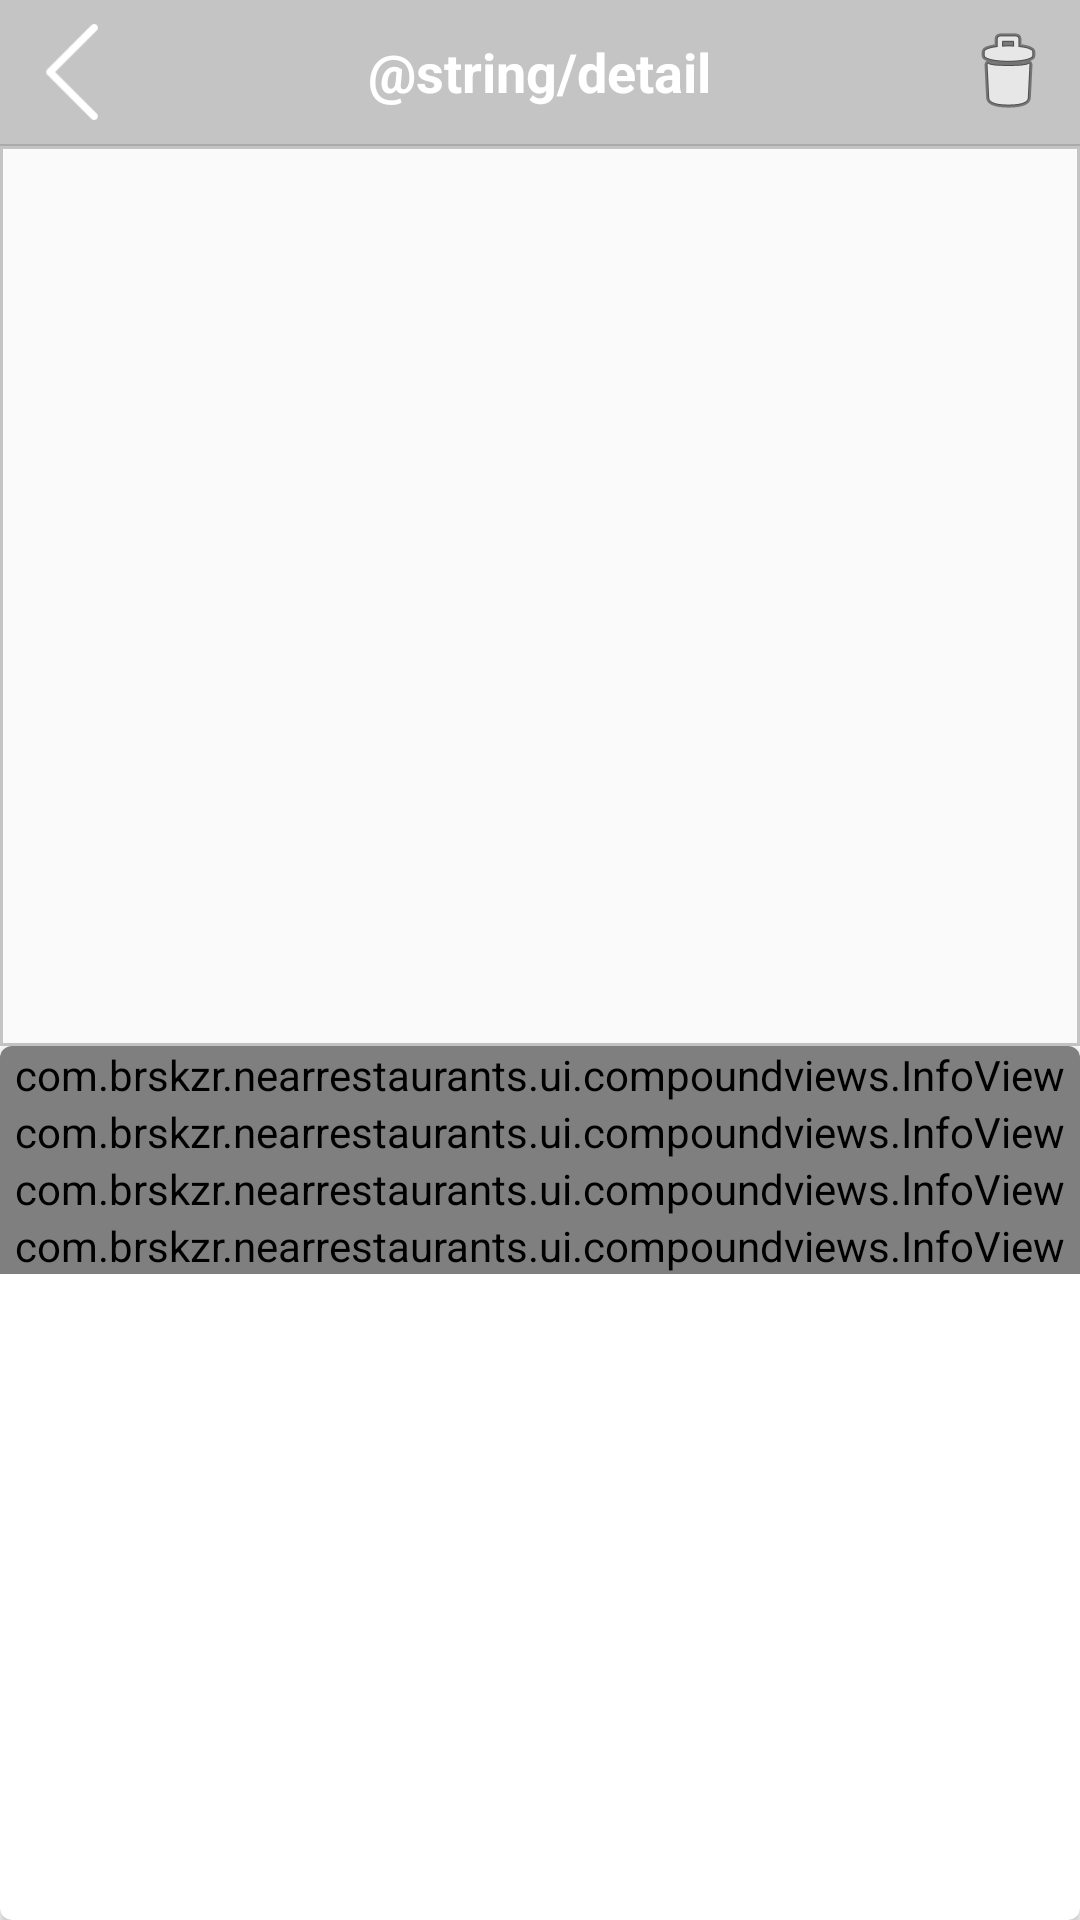

Point at icon controls on the screen. Image size 1080w x 1920h, points as [x,y].
delete: [1008,70]
left arrow: [72,72]
